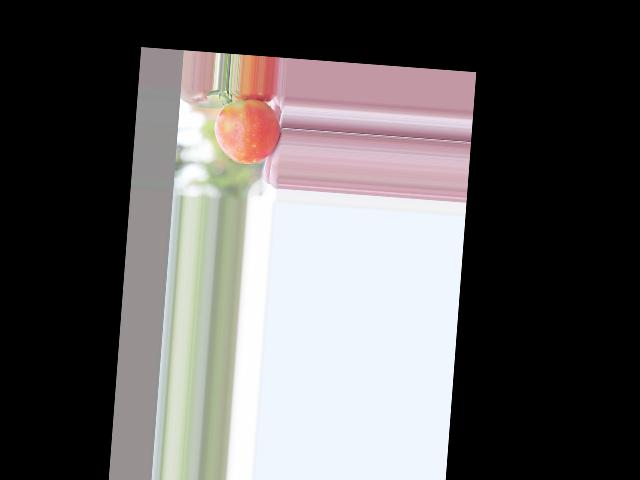tomato: (212, 97, 281, 166)
